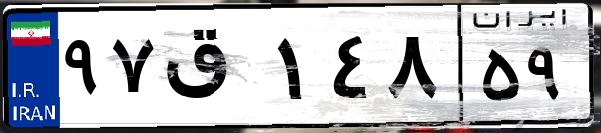1: (270, 28, 330, 110)
4: (330, 28, 385, 110)
5: (475, 38, 525, 113)
7: (110, 28, 158, 98)
8: (385, 28, 445, 110)
9: (57, 26, 110, 100), (525, 38, 570, 115)
ق: (158, 20, 270, 120)
